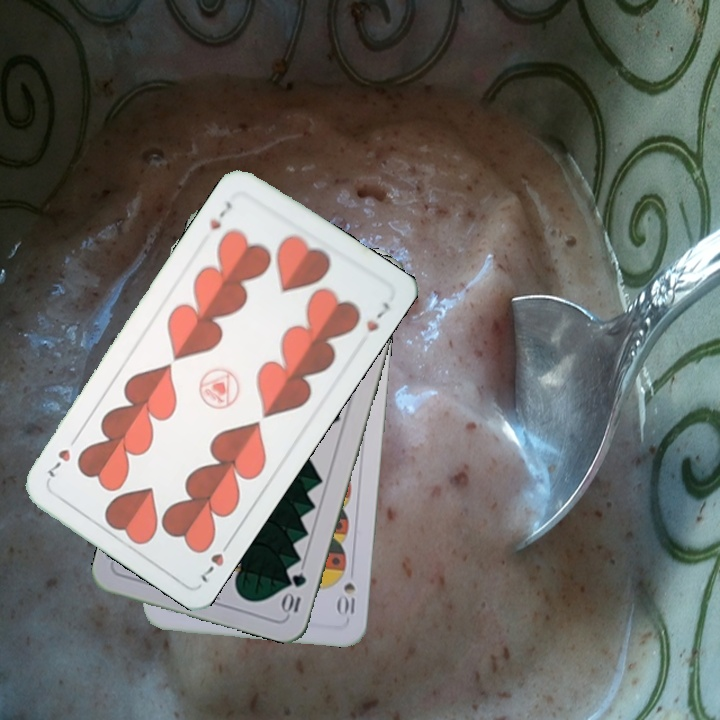G10: (279, 568, 309, 617)
H7: (196, 534, 235, 585), (205, 197, 236, 233)
S10: (335, 579, 358, 618)
